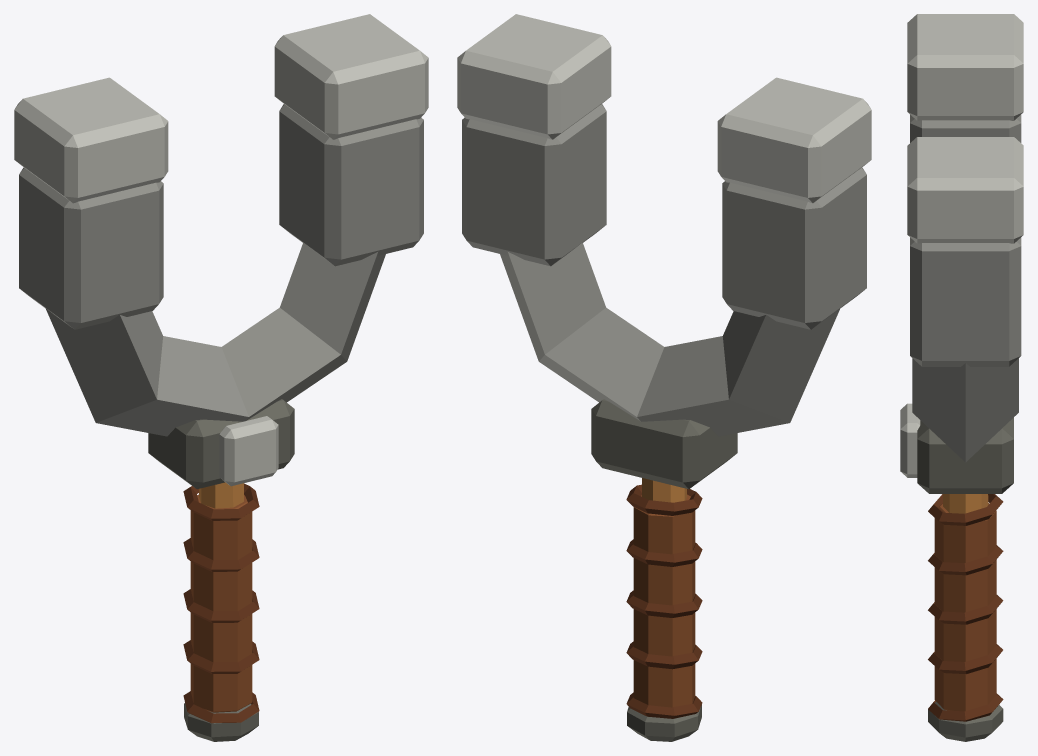
File: StoneCoinMagnet.fbx
3 views of the same model, side by side, from view 1: azimuth 30°, elevation 25°; view 2: azimuth 150°, elevation 25°; view 3: azimuth 270°, elevation 25° (orthographic). The views are drawn at different scales.
Parts seen in each view (by area): view 1: StoneCoinMagnet; view 2: StoneCoinMagnet; view 3: StoneCoinMagnet.
Part boxes in pixels (left/top/right/bottom): StoneCoinMagnet: left=14, top=14, right=428, bottom=741; StoneCoinMagnet: left=457, top=14, right=871, bottom=741; StoneCoinMagnet: left=900, top=14, right=1023, bottom=741.
Bounding box in the file's own units: 1.68 × 2.89 × 0.51.
1 material, 1 textured.
